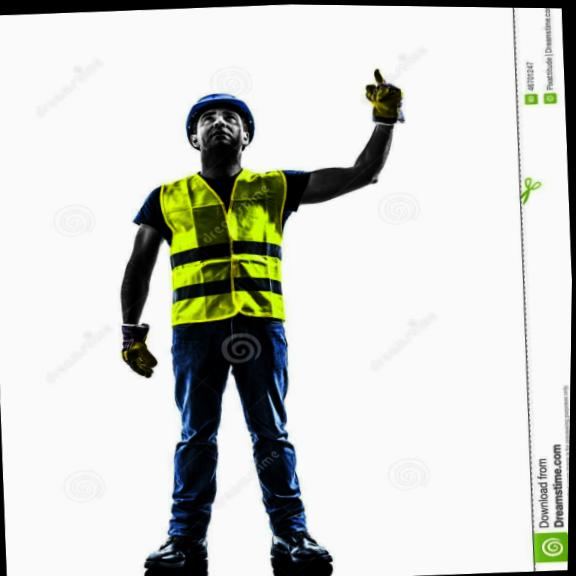safety_vest: (130, 164, 319, 345)
